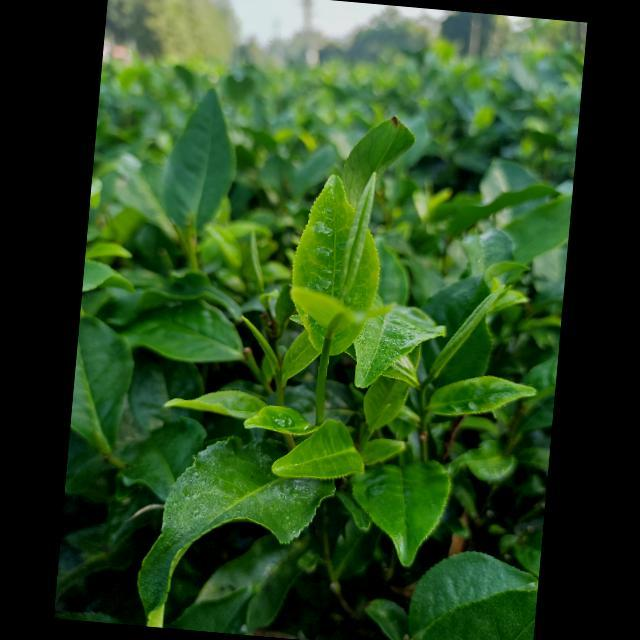Stem: (416, 383, 424, 391), (276, 383, 286, 387)
